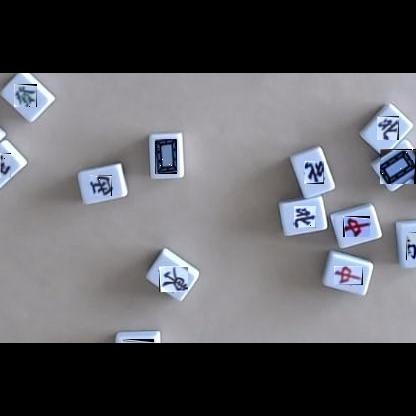1z: (159, 266, 188, 292)
2z: (406, 232, 416, 260), (0, 153, 11, 178)
3z: (90, 175, 112, 196)
4z: (377, 116, 399, 140), (294, 206, 316, 228), (304, 161, 324, 184)
5z: (380, 149, 416, 184), (155, 139, 177, 174), (121, 339, 154, 343)
6z: (14, 84, 37, 107)
7z: (343, 216, 370, 237), (334, 266, 363, 285)
